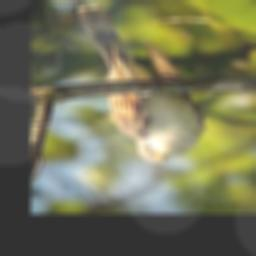Cuckoo: (78, 5, 204, 163)
